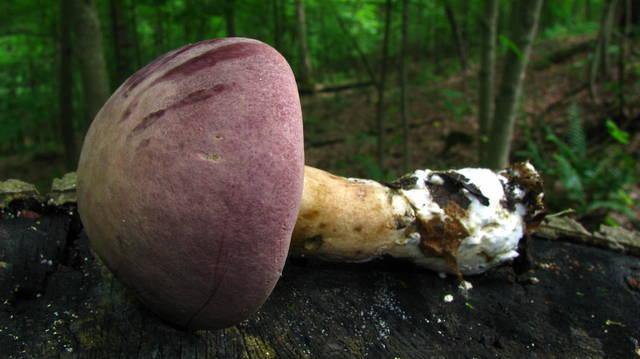poisonous_mushroom: (74, 35, 553, 334)
